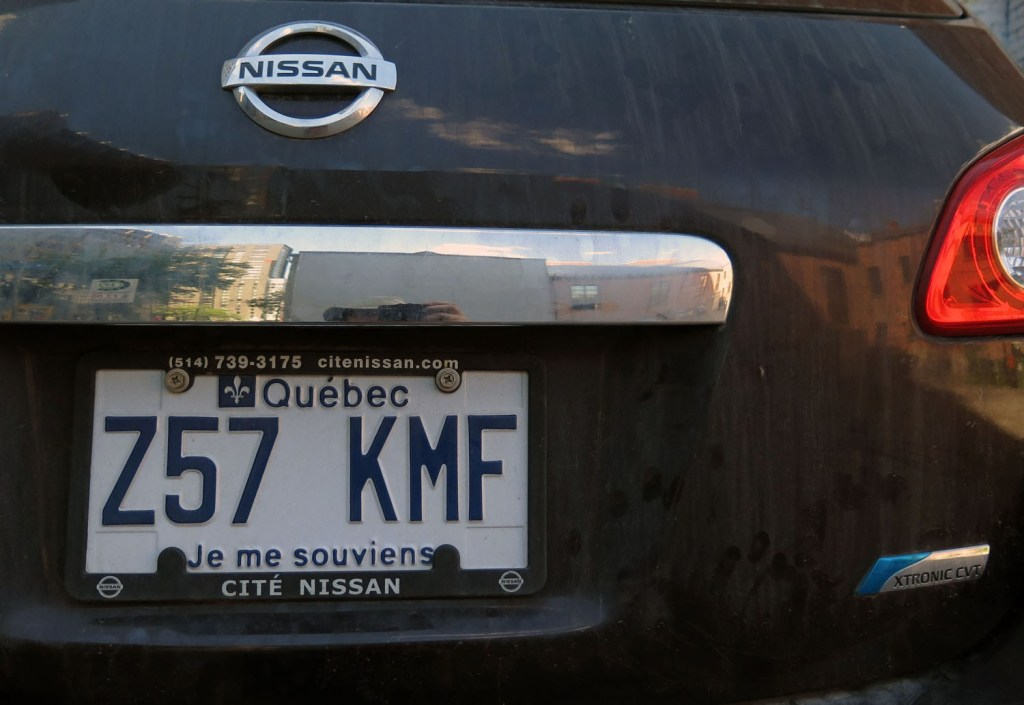license plate: (64, 337, 549, 610)
